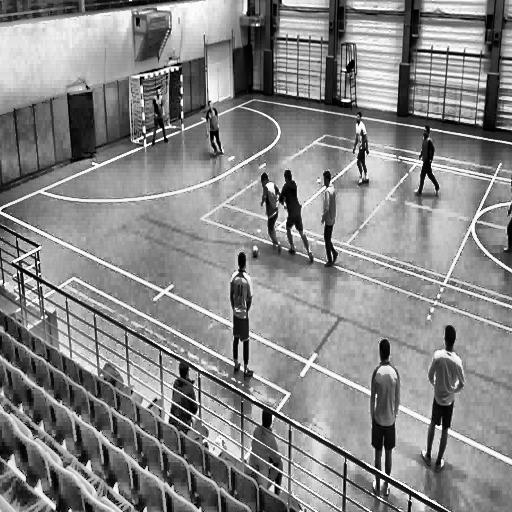ball: (250, 243, 260, 259)
player: (419, 324, 466, 474), (368, 335, 401, 507), (229, 253, 254, 385), (282, 168, 314, 265), (248, 406, 284, 484), (168, 350, 203, 428), (412, 121, 444, 199), (319, 170, 341, 272), (259, 171, 281, 256), (351, 110, 371, 187), (203, 99, 225, 161), (149, 88, 169, 154), (501, 174, 512, 272)
